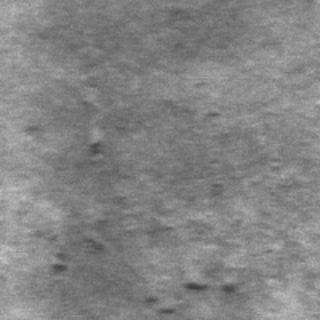rolled pit: (154, 210, 296, 292)
